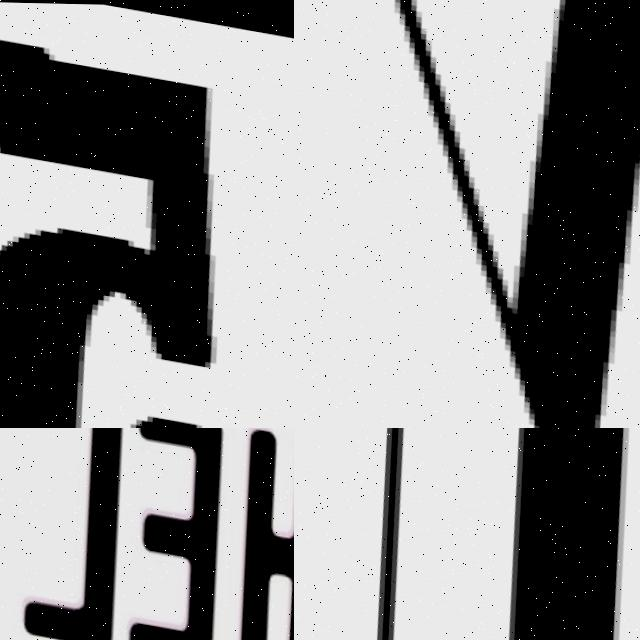5: (0, 18, 294, 428)
E: (91, 428, 244, 640)
H: (212, 428, 294, 640)
L: (0, 428, 145, 640)
U: (294, 428, 640, 640)
V: (294, 0, 640, 428)
